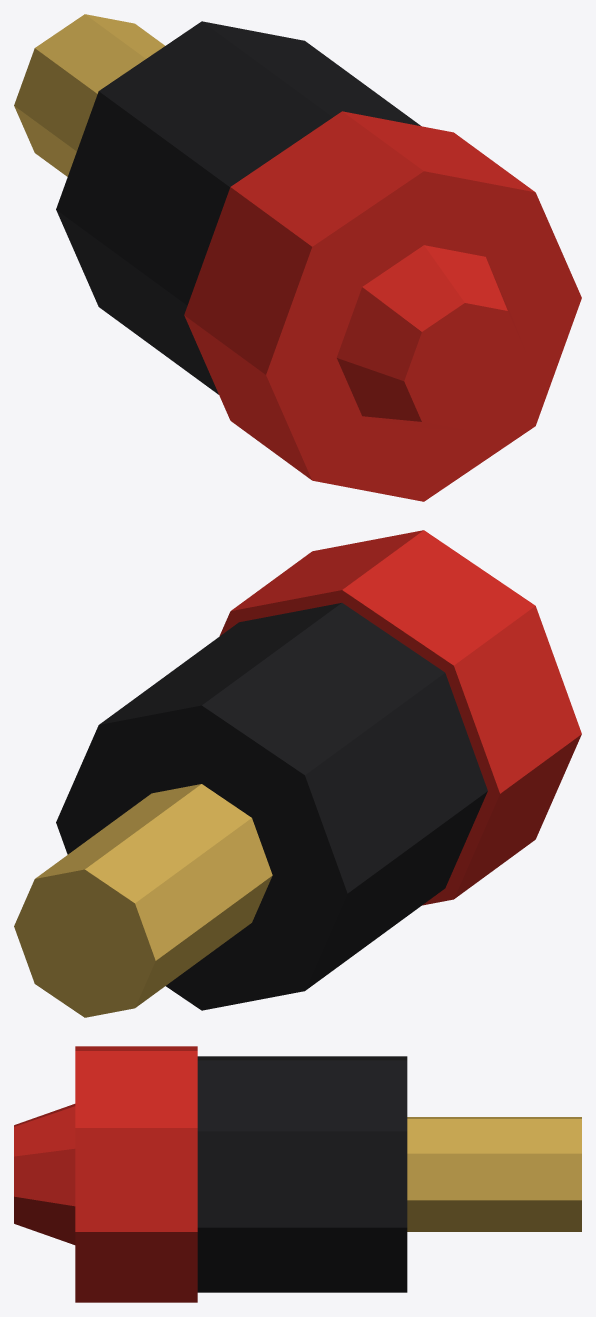
Rendered from switch.jumper-plug.glb.
3 renders of one model, top to bottom at view 1: azimuth 30°, elevation 25°; view 2: azimuth 150°, elevation 25°; view 3: azimuth 270°, elevation 25°, orthographic. The views are drawn at different scales.
Parts seen in each view (by area): view 1: sleeve, body, boot, tip; view 2: body, sleeve, tip; view 3: body, sleeve, tip, boot.
Part boxes in pixels (x1,y1,x2,y2): sleeve: (184,111,581,501); body: (56,21,421,394); boot: (336,245,525,429); tip: (14,14,164,176); body: (56,603,487,1010); sleeve: (219,530,581,905); tip: (14,784,272,1017); body: (197,1056,407,1292); sleeve: (75,1046,197,1302); tip: (407,1117,581,1231); boot: (14,1104,75,1244).
Size of the model in its own units: 0.0156 by 0.0156 by 0.0325.
